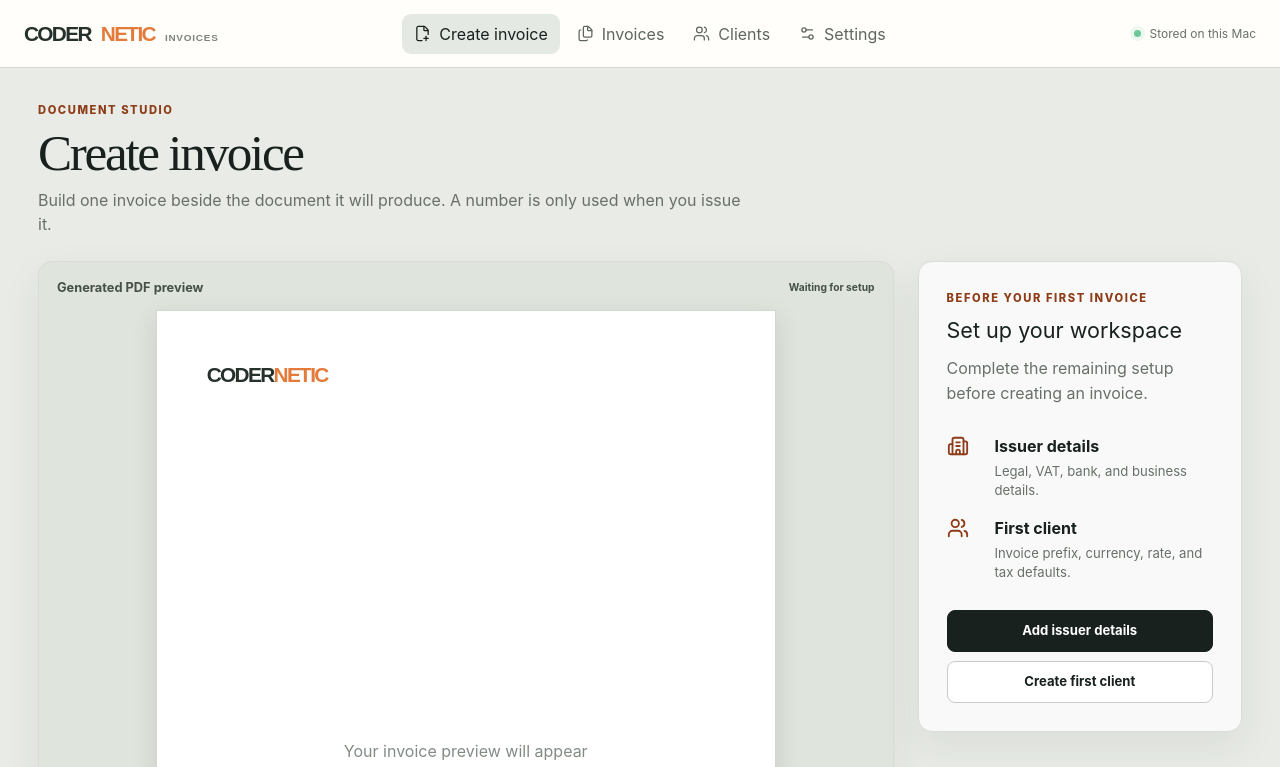
Test: empty workspace › shows every Document studio destination and its next workspace step
The image size is (1280, 767).
Check: the heading "Create invoice" is shown, box [38,124,303,181]
Check: the heading "Set up your workspace" is shown, box [946,314,1213,346]
Click the button "Add issuer details": x=1080, y=631 [946,610,1213,652]
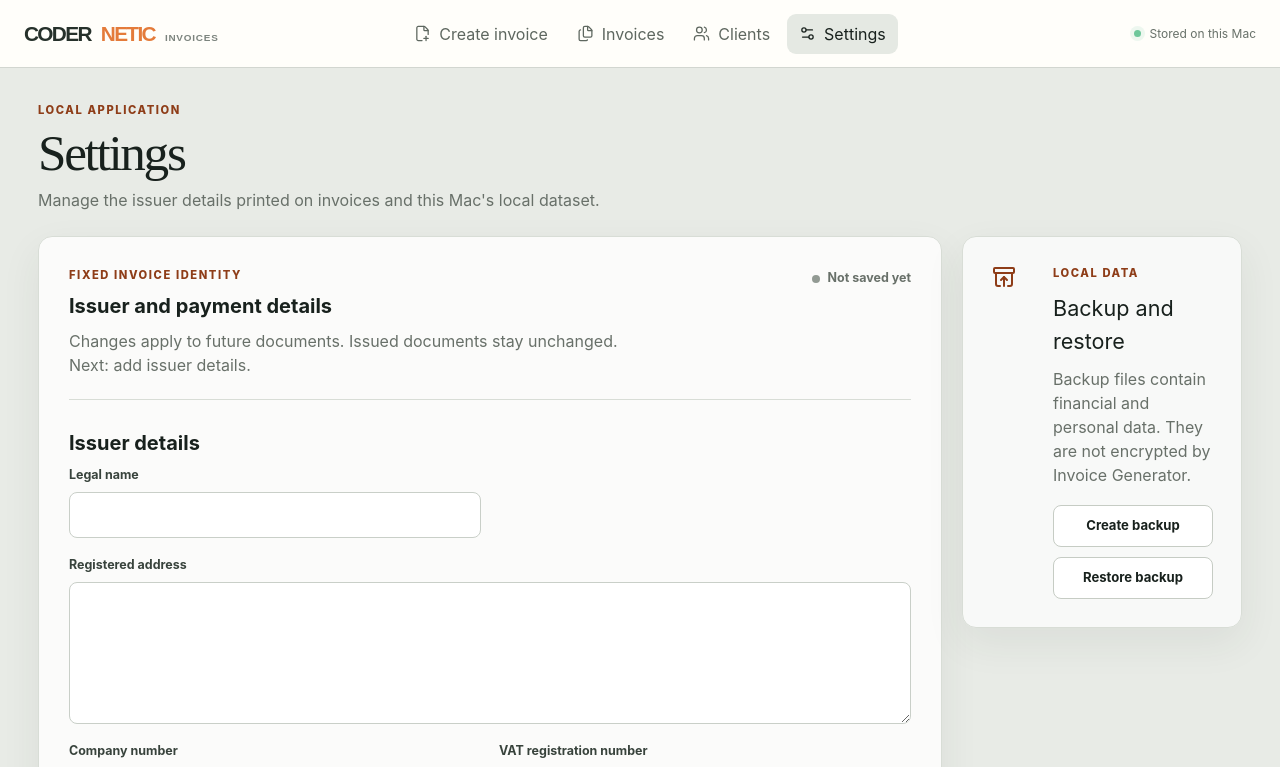
Check: the heading "Settings" is shown, box [38,124,184,181]
Check: the text "Next: add issuer details." is shown, box [69,355,251,375]
Check: the button "Create backup" is shown, box [1053,505,1213,547]
Click the button "Invoices": x=621, y=34 [565,14,676,54]
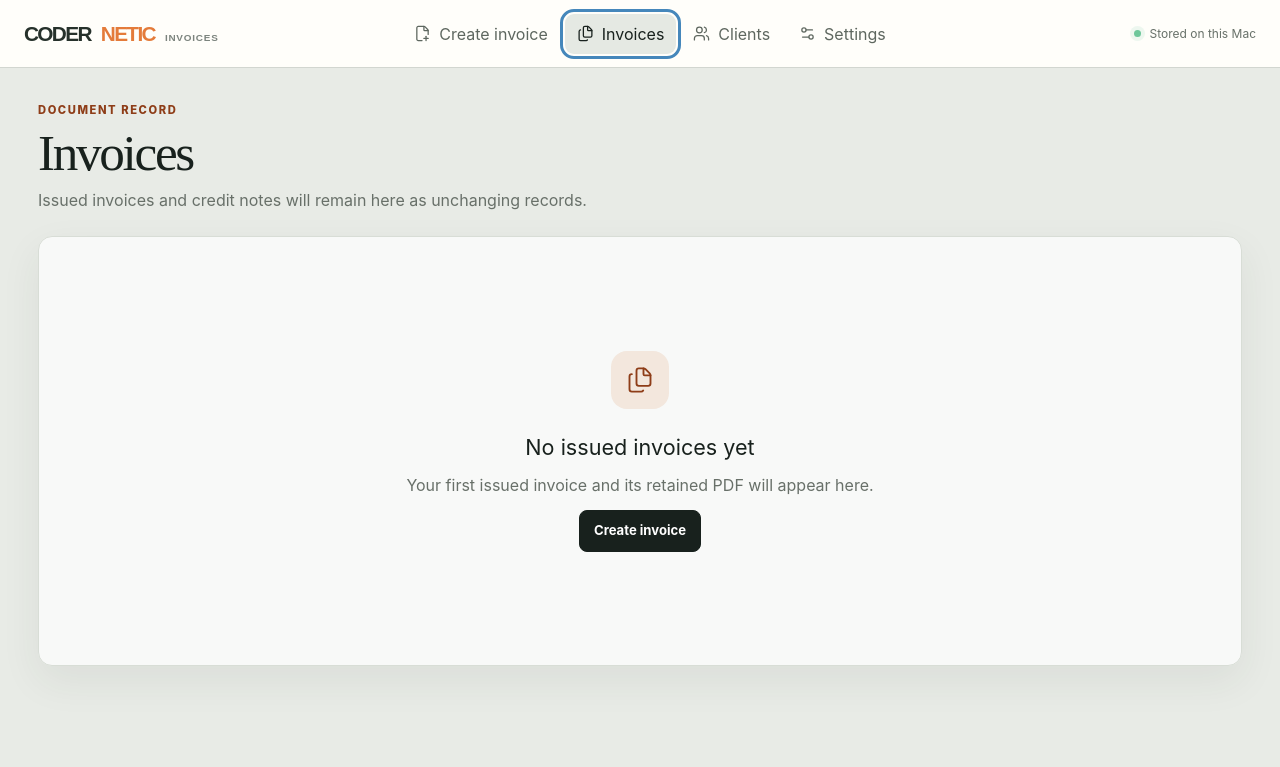
Check: the heading "No issued invoices yet" is shown, box [525,431,755,463]
Click the button "Create invoice" below "No issued invoices yet": x=640, y=531 [579,510,701,552]
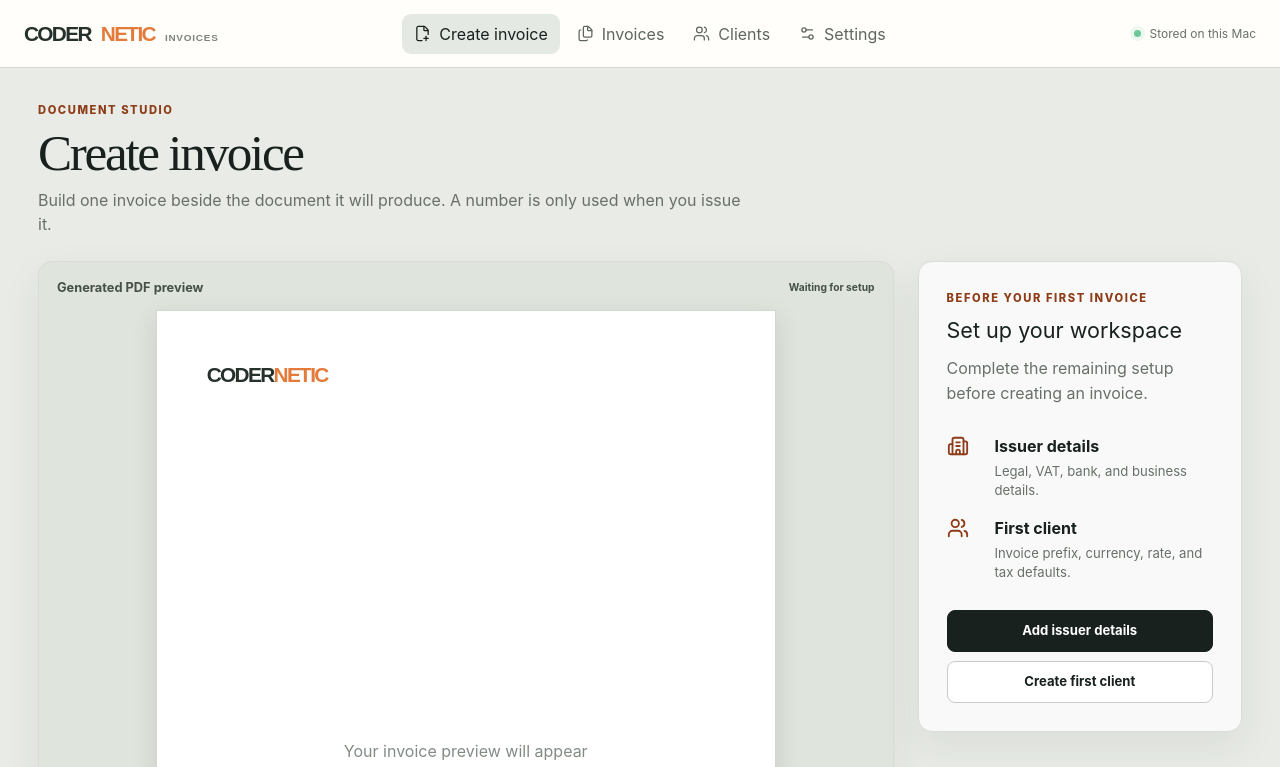
Check: the heading "Create invoice" is shown, box [38,124,303,181]
Click the button "Clients": x=732, y=34 [681,14,782,54]
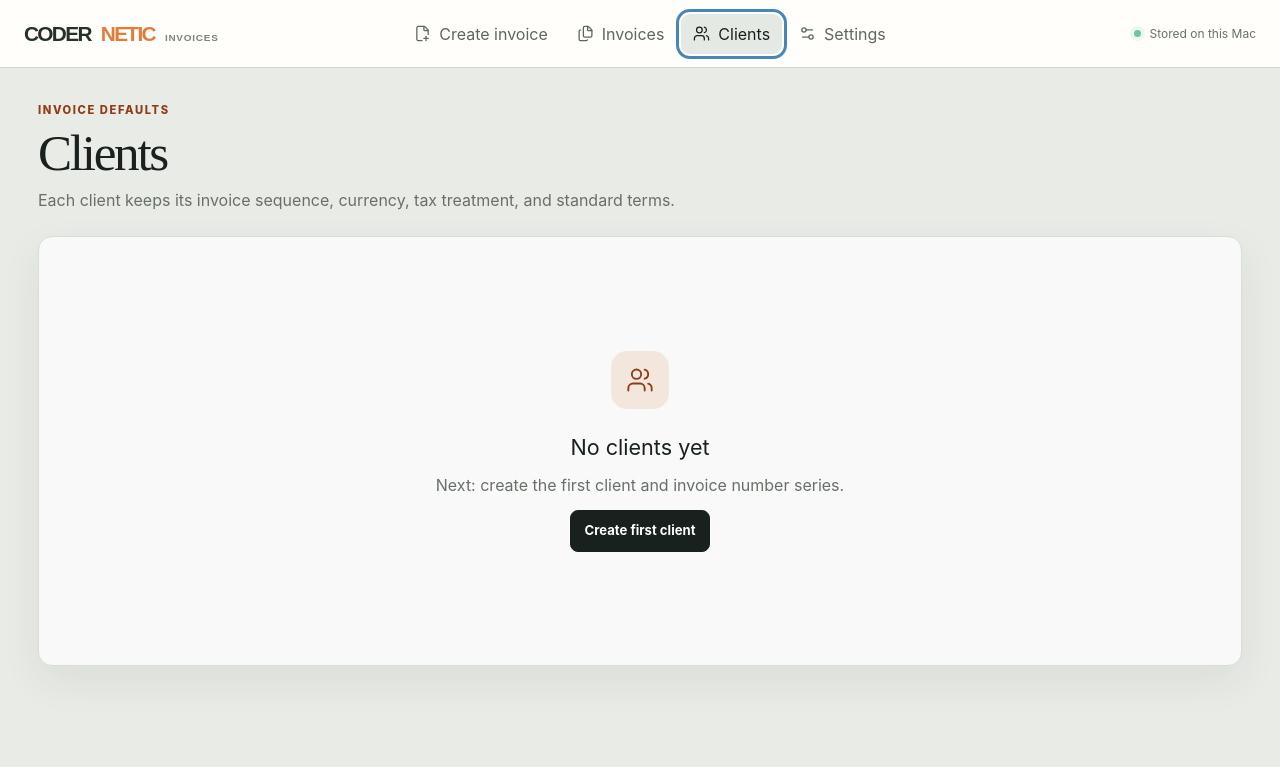
Check: the heading "No clients yet" is shown, box [570,431,710,463]
Check: the text "Next: create the first client and invoice number series." is shown, box [436,473,844,498]
